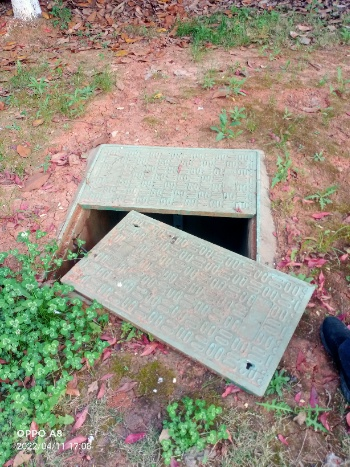uncovered: (42, 144, 316, 396)
